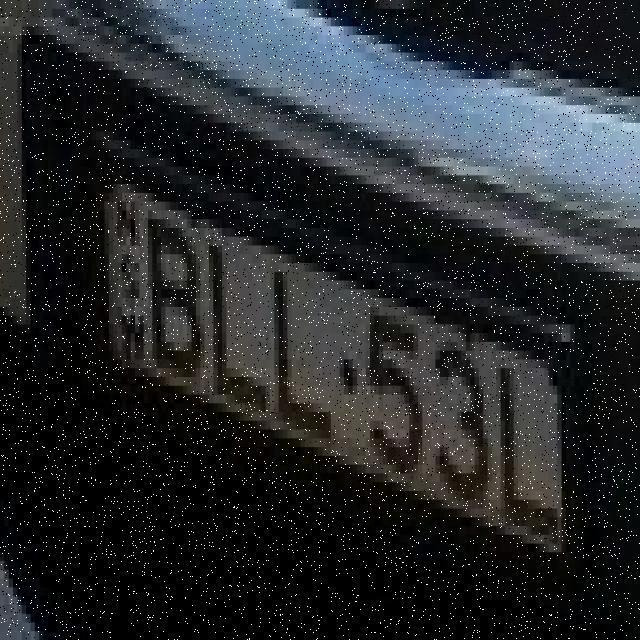LicensePlate: (85, 133, 585, 578)
